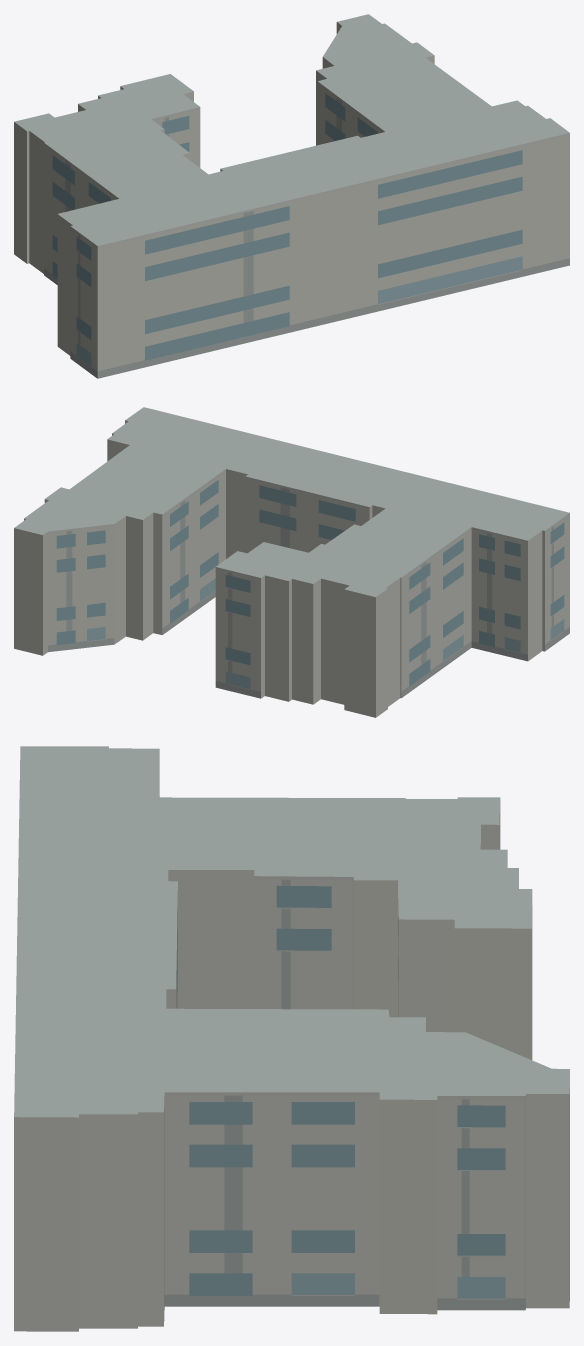
The model's file is survey-upis-32638181.glb.
The picture shows the model from 3 angles, top to bottom: view 1: azimuth 30°, elevation 25°; view 2: azimuth 150°, elevation 25°; view 3: azimuth 270°, elevation 25°; orthographic projection. The views are drawn at different scales.
Visible parts, largest first — view 1: survey-upis-32638181.tmp; view 2: survey-upis-32638181.tmp; view 3: survey-upis-32638181.tmp.
Boxes of the visible parts, x1,y1,x2,y2 form: survey-upis-32638181.tmp: [14, 14, 569, 378]; survey-upis-32638181.tmp: [14, 407, 569, 717]; survey-upis-32638181.tmp: [14, 746, 569, 1331].
Bounding box in the file's own units: 56.67 × 15.25 × 35.86.
